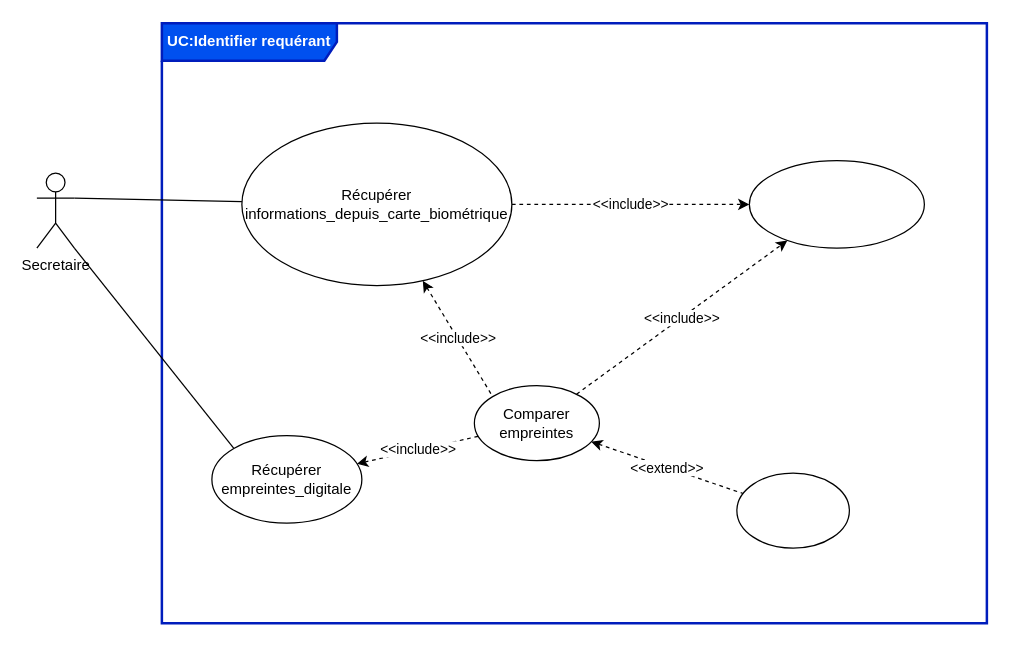
Image size: 1010x645. Some labels were removed from this diagram. Each missing label, with the box of its shape:
Alerte personnalisée: (736, 472, 849, 548)
S'authentifier: (748, 159, 924, 248)
